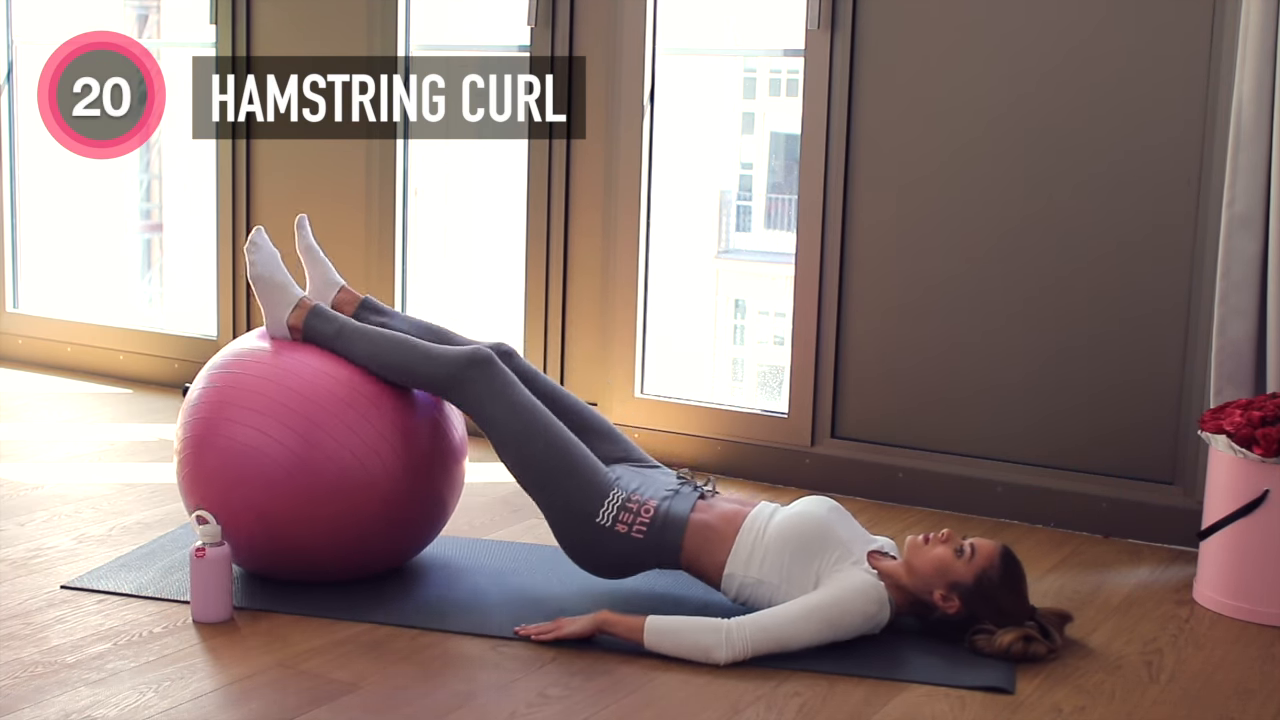yogaball: (172, 321, 474, 591)
